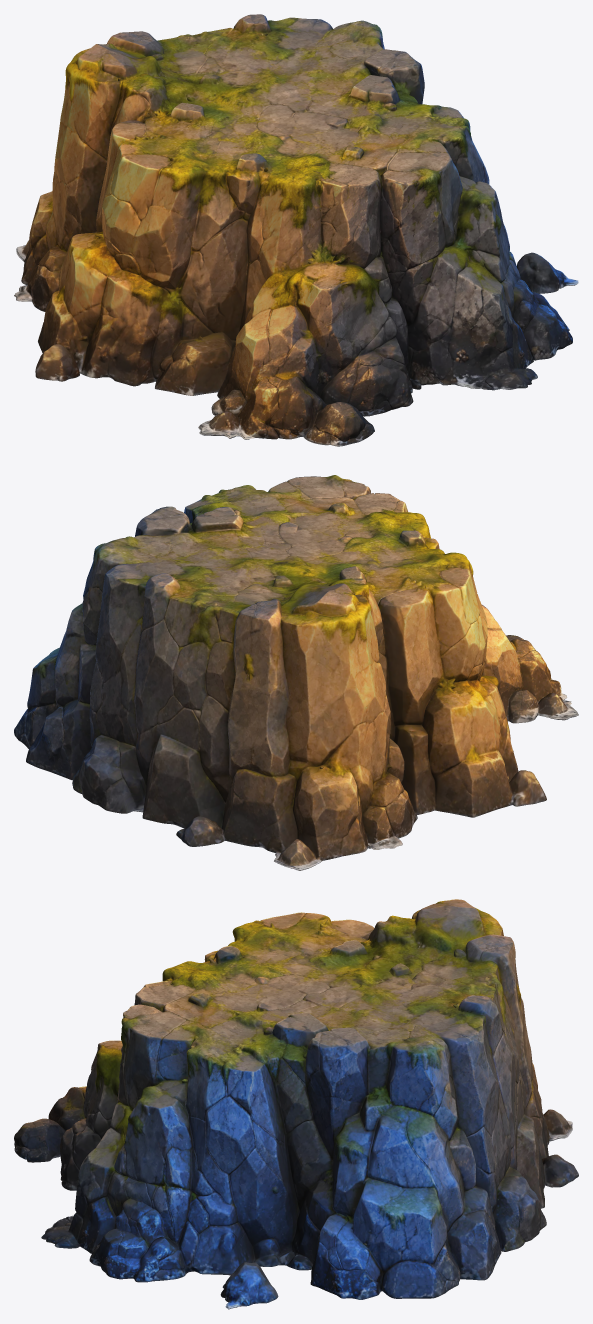
The model's file is kaya_taban_duz.glb.
3 renders of one model, top to bottom at view 1: azimuth 30°, elevation 25°; view 2: azimuth 150°, elevation 25°; view 3: azimuth 270°, elevation 25°, orthographic. The views are drawn at different scales.
Parts seen in each view (by area): view 1: tripo_node_77eef3bd-6aba-469d-8537-36b36bf68db7; view 2: tripo_node_77eef3bd-6aba-469d-8537-36b36bf68db7; view 3: tripo_node_77eef3bd-6aba-469d-8537-36b36bf68db7.
Boxes of the visible parts, x1,y1,x2,y2 form: tripo_node_77eef3bd-6aba-469d-8537-36b36bf68db7: [14, 14, 578, 446]; tripo_node_77eef3bd-6aba-469d-8537-36b36bf68db7: [14, 475, 578, 870]; tripo_node_77eef3bd-6aba-469d-8537-36b36bf68db7: [14, 899, 578, 1309].
Bounding box in the file's own units: 0.9799 × 0.4412 × 0.9675.
1 material, 1 textured.
